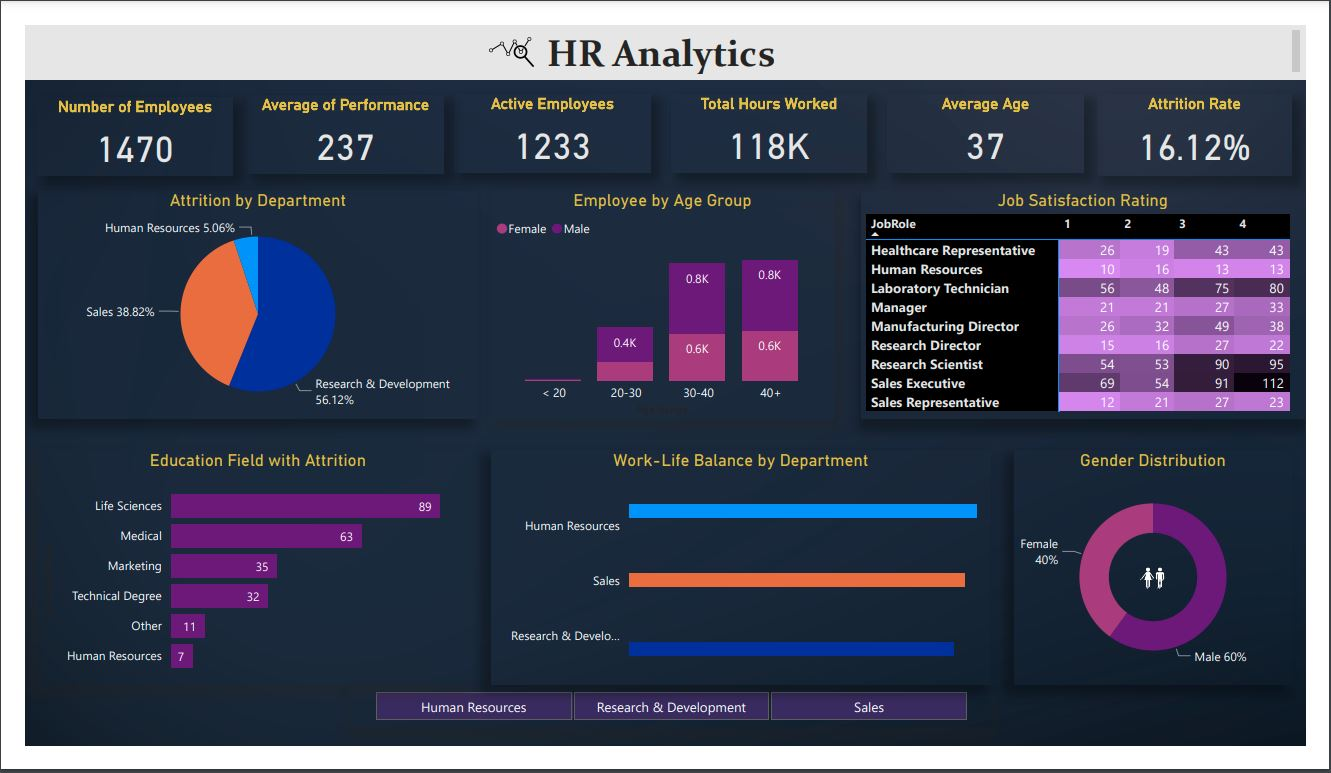

This screenshot's page, from the dashboard's own definition file:
{"tool":"powerbi","page":{"name":"HR Analytics","canvas":[1280,720],"ordinal":0},"visuals":[{"type":"card","title":"Number of  Employees","fields":{"Values":["Sum(HR Employee Attrition (2).EmployeeCount)"]},"box":[12.1,71.6,196.2,79],"z":0,"group":"g1"},{"type":"slicer","fields":{"Values":["HR Employee Attrition (2).Department"]},"box":[325.4,660.4,641.1,41.2],"z":0},{"type":"card","title":"Active Employees","fields":{"Values":["HR Employee Attrition (2).Active Employees"]},"box":[429.5,68.9,196.7,79],"z":1000,"group":"g1"},{"type":"pieChart","title":"Attrition by Department","fields":{"Category":["HR Employee Attrition (2).Department"],"Y":["Sum(HR Employee Attrition (2).Attrition Count)"]},"box":[13.4,164.5,440.1,229.6],"z":1000},{"type":"shape","box":[0,46.5,1280.4,14.9],"z":2000},{"type":"card","title":"Total Hours Worked","fields":{"Values":["Sum(HR Employee Attrition (2).StandardHours)"]},"box":[646.6,69,195.5,79],"z":2000,"group":"g1"},{"type":"pivotTable","title":"Job Satisfaction Rating","fields":{"Rows":["HR Employee Attrition (2).JobRole"],"Columns":["HR Employee Attrition (2).JobSatisfaction"],"Values":["Sum(HR Employee Attrition (2).EmployeeCount)"]},"box":[836.1,164.5,443.9,229.6],"z":3000},{"type":"group","id":"g1","title":"Group 1","box":[12.1,68.9,1047.1,81.7],"z":4000},{"type":"card","title":"Average of Performance","fields":{"Values":["Sum(HR Employee Attrition (2).Attrition Count)"]},"box":[222,69.6,196.7,79],"z":4000,"group":"g1"},{"type":"card","title":"Average Age","fields":{"Values":["Avg(HR Employee Attrition (2).Age)"]},"box":[862.5,69,196.7,79],"z":5000,"group":"g1"},{"type":"donutChart","title":"Gender Distribution","fields":{"Category":["HR Employee Attrition (2).Gender"],"Y":["Divide(Sum(HR Employee Attrition (2).EmployeeCount), ScopedEval(Sum(HR Employee Attrition (2).EmployeeCount), []))"]},"box":[989.2,424.8,277.4,235.3],"z":5000},{"type":"textbox","box":[0,0,1280.4,54.4],"z":6000},{"type":"image","box":[453.4,0,64.9,54.4],"z":8000},{"type":"image","box":[1106.8,530,41.1,45.9],"z":9000},{"type":"card","title":"Attrition Rate","fields":{"Values":["HR Employee Attrition (2).Attrition Rate"]},"box":[1071.7,69.3,195.6,81.6],"z":11000},{"type":"barChart","title":"Education Field with Attrition","fields":{"Category":["HR Employee Attrition (2).EducationField"],"Y":["Sum(HR Employee Attrition (2).Attrition Count)"]},"box":[13.4,424.8,440.1,235.3],"z":12000},{"type":"clusteredBarChart","title":"Work-Life Balance by Department","fields":{"Category":["HR Employee Attrition (2).Department"],"Y":["Avg(HR Employee Attrition (2).WorkLifeBalance)"],"Series":["HR Employee Attrition (2).Department"]},"box":[465.9,424.8,500.3,235.3],"z":13000},{"type":"columnChart","title":"Employee by Age Group","fields":{"Category":["HR Employee Attrition (2).Age Range"],"Y":["Sum(HR Employee Attrition (2).Age Range Rating)"],"Series":["HR Employee Attrition (2).Gender"]},"box":[465.7,164.9,342.9,229.8],"z":14000}]}

Visuals, with their boxes on the page's 1280x720 design canvas (x1, y1, x2, y2). These are canvas units, not pixel positions in the 1331x773 screenshot, which may show the page scaled, cropped or inside an application window:
"Number of  Employees" card: region(12, 72, 208, 151)
slicer - HR Employee Attrition (2).Department: region(325, 660, 966, 702)
"Active Employees" card: region(430, 69, 626, 148)
"Attrition by Department" pieChart: region(13, 164, 454, 394)
shape: region(0, 46, 1280, 61)
"Total Hours Worked" card: region(647, 69, 842, 148)
"Job Satisfaction Rating" pivotTable: region(836, 164, 1280, 394)
"Group 1" group: region(12, 69, 1059, 151)
"Average of Performance" card: region(222, 70, 419, 149)
"Average Age" card: region(862, 69, 1059, 148)
"Gender Distribution" donutChart: region(989, 425, 1267, 660)
textbox: region(0, 0, 1280, 54)
image: region(453, 0, 518, 54)
image: region(1107, 530, 1148, 576)
"Attrition Rate" card: region(1072, 69, 1267, 151)
"Education Field with Attrition" barChart: region(13, 425, 454, 660)
"Work-Life Balance by Department" clusteredBarChart: region(466, 425, 966, 660)
"Employee by Age Group" columnChart: region(466, 165, 809, 395)
